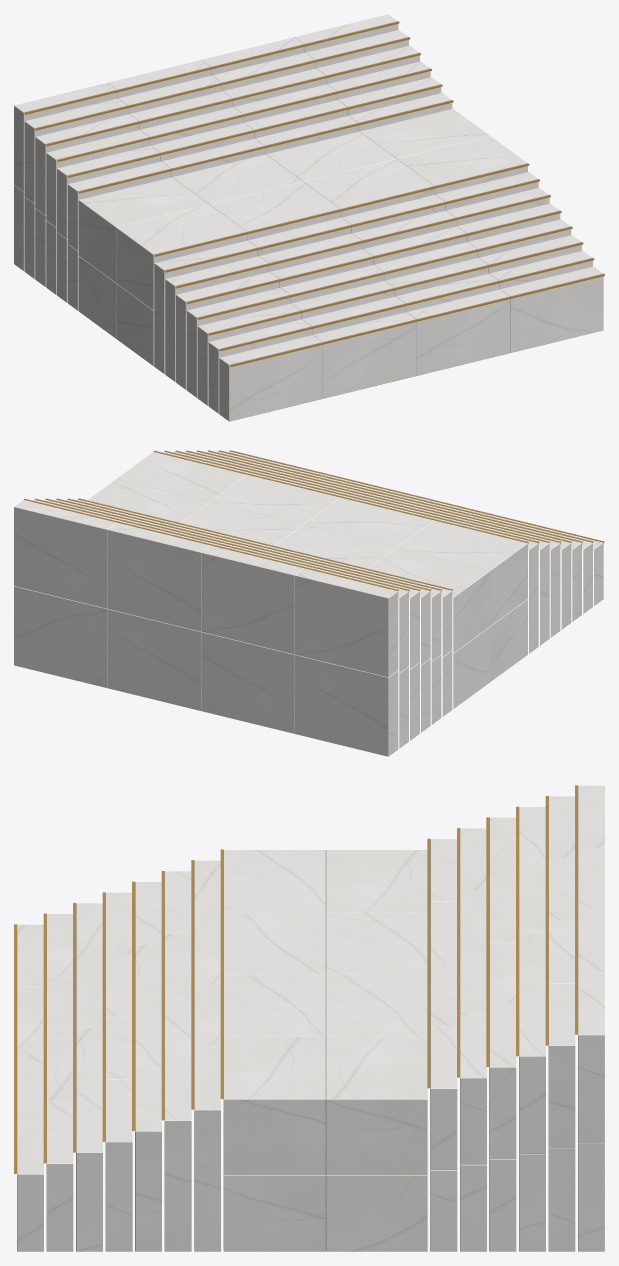
3 renders of one model, top to bottom at view 1: azimuth 30°, elevation 25°; view 2: azimuth 150°, elevation 25°; view 3: azimuth 270°, elevation 25°, orthographic. The views are drawn at different scales.
Visible parts, largest first — view 1: Mesh_stair_8; view 2: Mesh_stair_8; view 3: Mesh_stair_8.
Part boxes in pixels (left/top/right/bottom): Mesh_stair_8: left=14, top=14, right=604, bottom=421; Mesh_stair_8: left=14, top=450, right=604, bottom=756; Mesh_stair_8: left=14, top=785, right=604, bottom=1251.
Bounding box in the file's own units: 8 × 3.24 × 8.01.
1 material, 1 textured.
